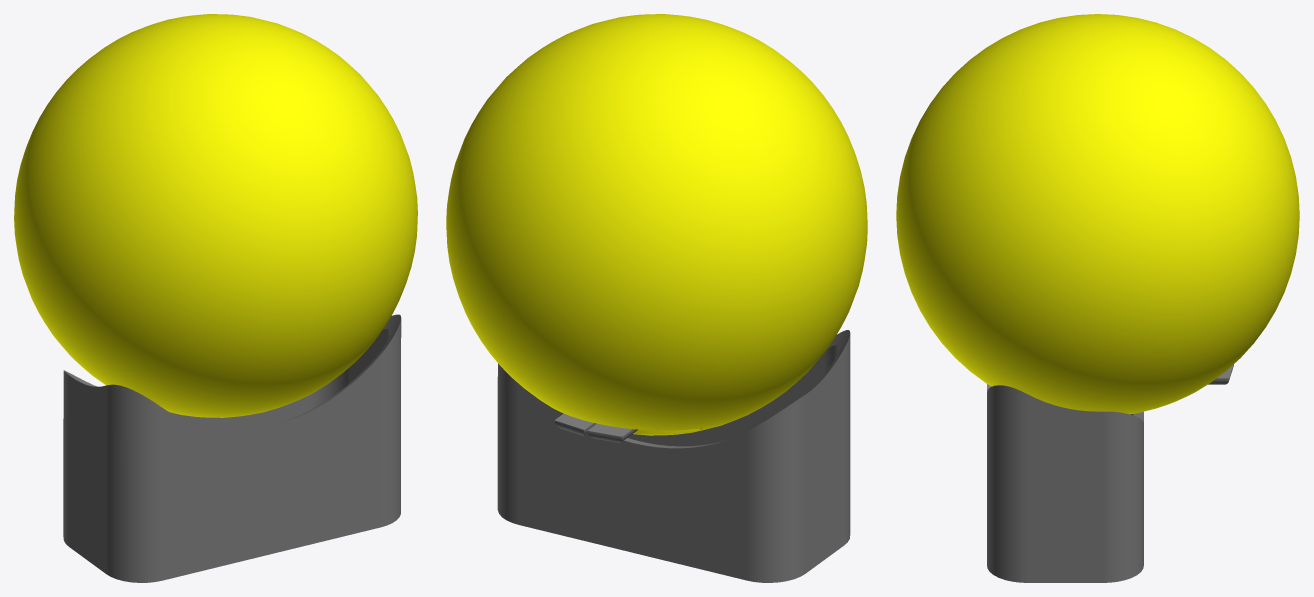
The model's file is argoggles.fbx.
3 views of the same model, side by side, from view 1: azimuth 30°, elevation 25°; view 2: azimuth 150°, elevation 25°; view 3: azimuth 270°, elevation 25° (orthographic). The views are drawn at different scales.
Parts seen in each view (by area): view 1: Object_6, Object_8; view 2: Object_6, Object_8, Object_3; view 3: Object_6, Object_8.
Boxes of the visible parts, <box> form: Object_6: <box>14,14,417,417</box>; Object_8: <box>63,314,401,582</box>; Object_6: <box>446,14,867,435</box>; Object_8: <box>497,330,850,582</box>; Object_3: <box>587,423,637,442</box>; Object_6: <box>896,14,1299,414</box>; Object_8: <box>987,384,1143,582</box>.
Size of the model in its own units: 39.43 by 51.73 by 39.43.
